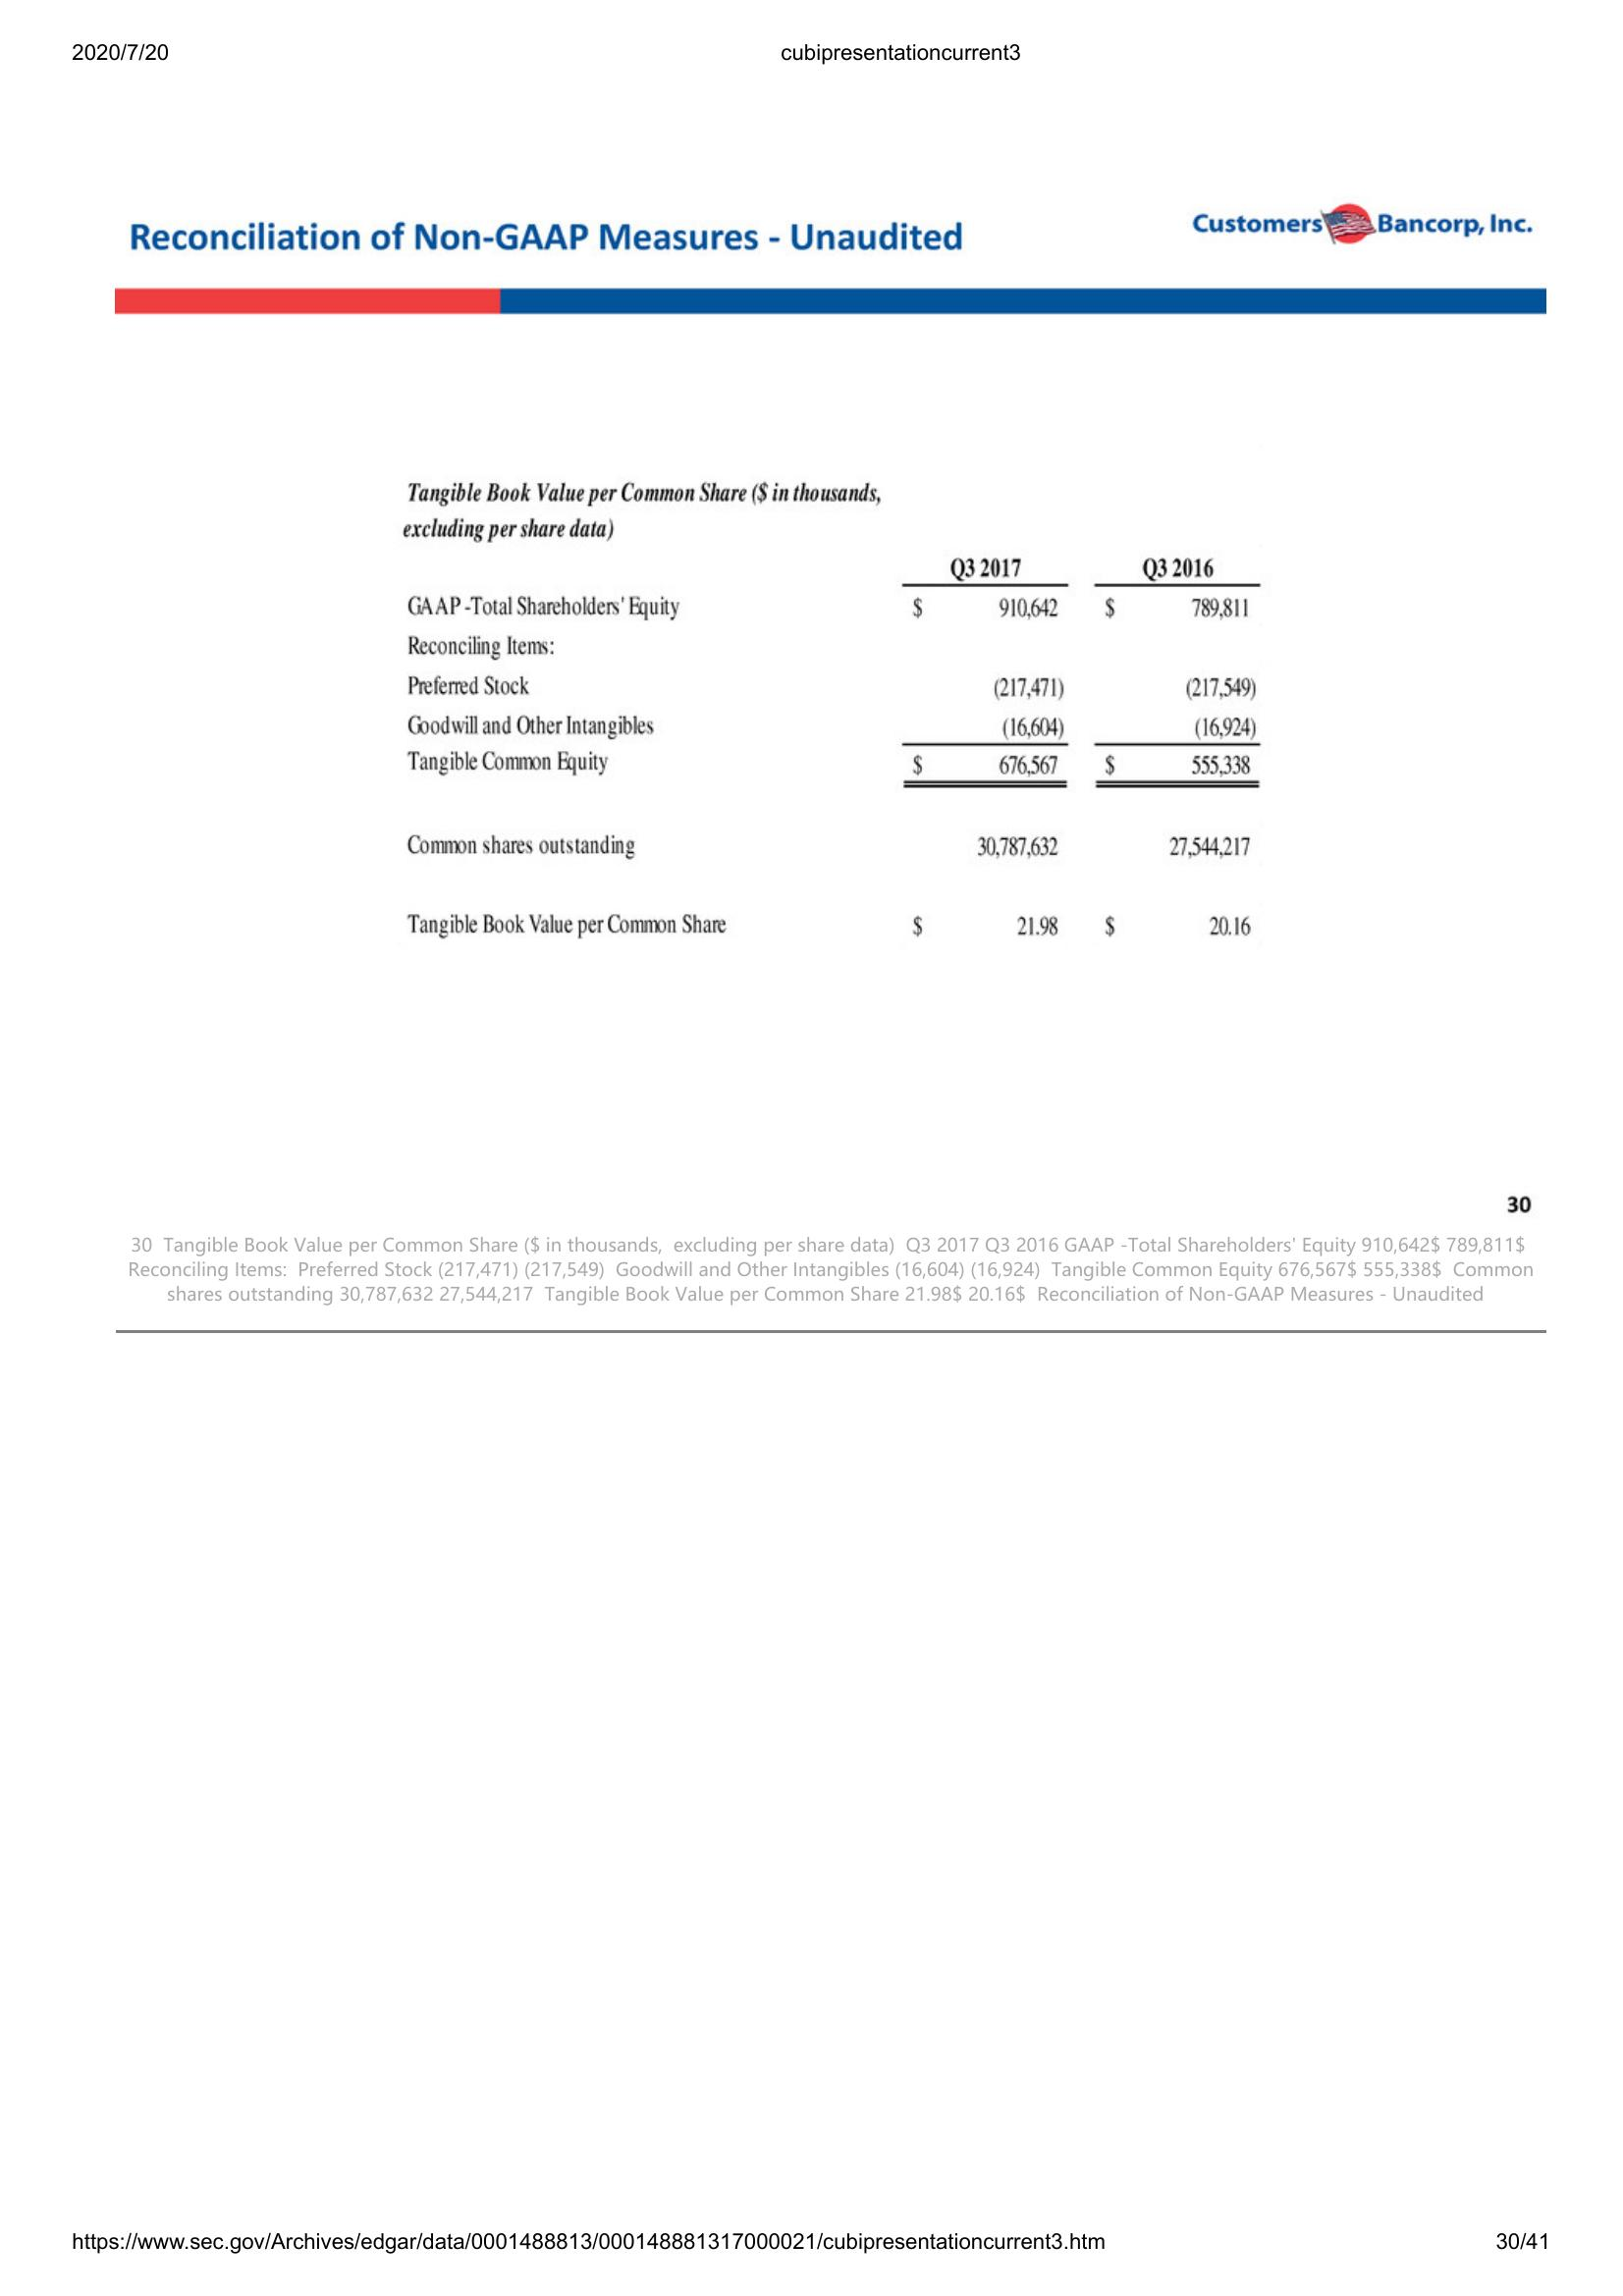table: (397, 449, 1272, 951)
